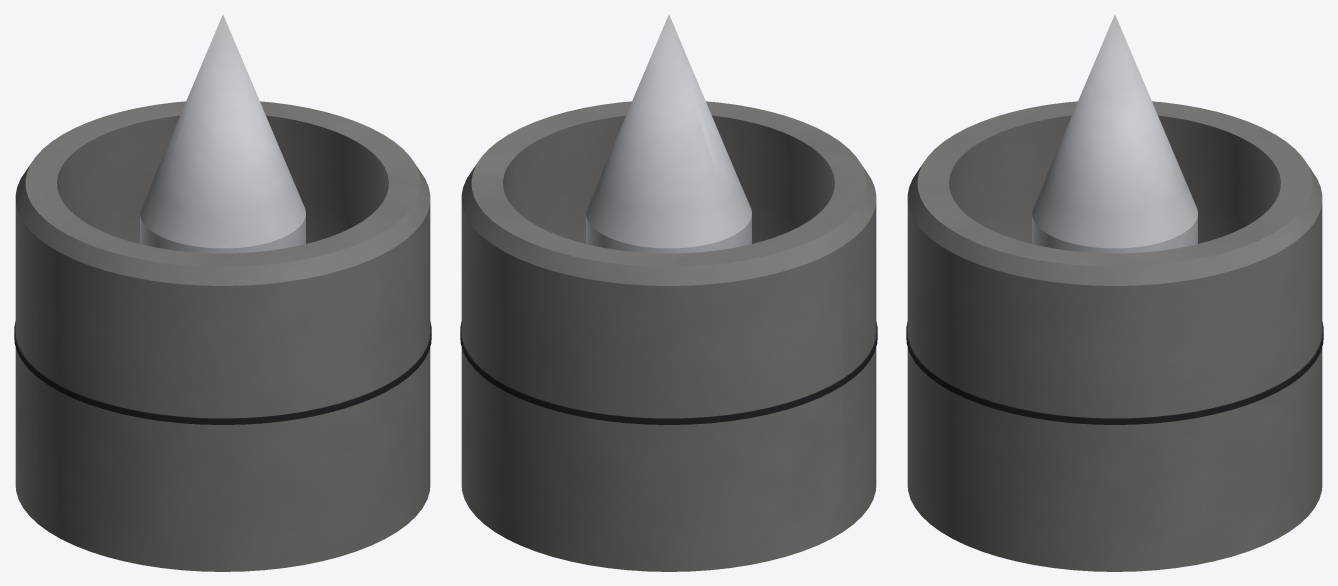
Rendered from ax_aero_32_insc_cone_intake_s.glb.
3 views of the same model, side by side, from view 1: azimuth 30°, elevation 25°; view 2: azimuth 150°, elevation 25°; view 3: azimuth 270°, elevation 25° (orthographic).
Parts seen in each view (by area): view 1: intake_lip, shock_cone, frame; view 2: intake_lip, shock_cone, frame; view 3: intake_lip, shock_cone, frame.
Boxes of the visible parts, <box> form: intake_lip: <box>15,101,430,571</box>; shock_cone: <box>140,14,305,253</box>; frame: <box>14,321,431,424</box>; intake_lip: <box>461,101,876,571</box>; shock_cone: <box>586,14,751,253</box>; frame: <box>460,321,877,424</box>; intake_lip: <box>907,101,1322,571</box>; shock_cone: <box>1032,14,1197,253</box>; frame: <box>906,321,1323,424</box>.
Bounding box in the file's own units: 1.26 × 1.56 × 1.26.
Materials: 3 (2 with a texture image).
